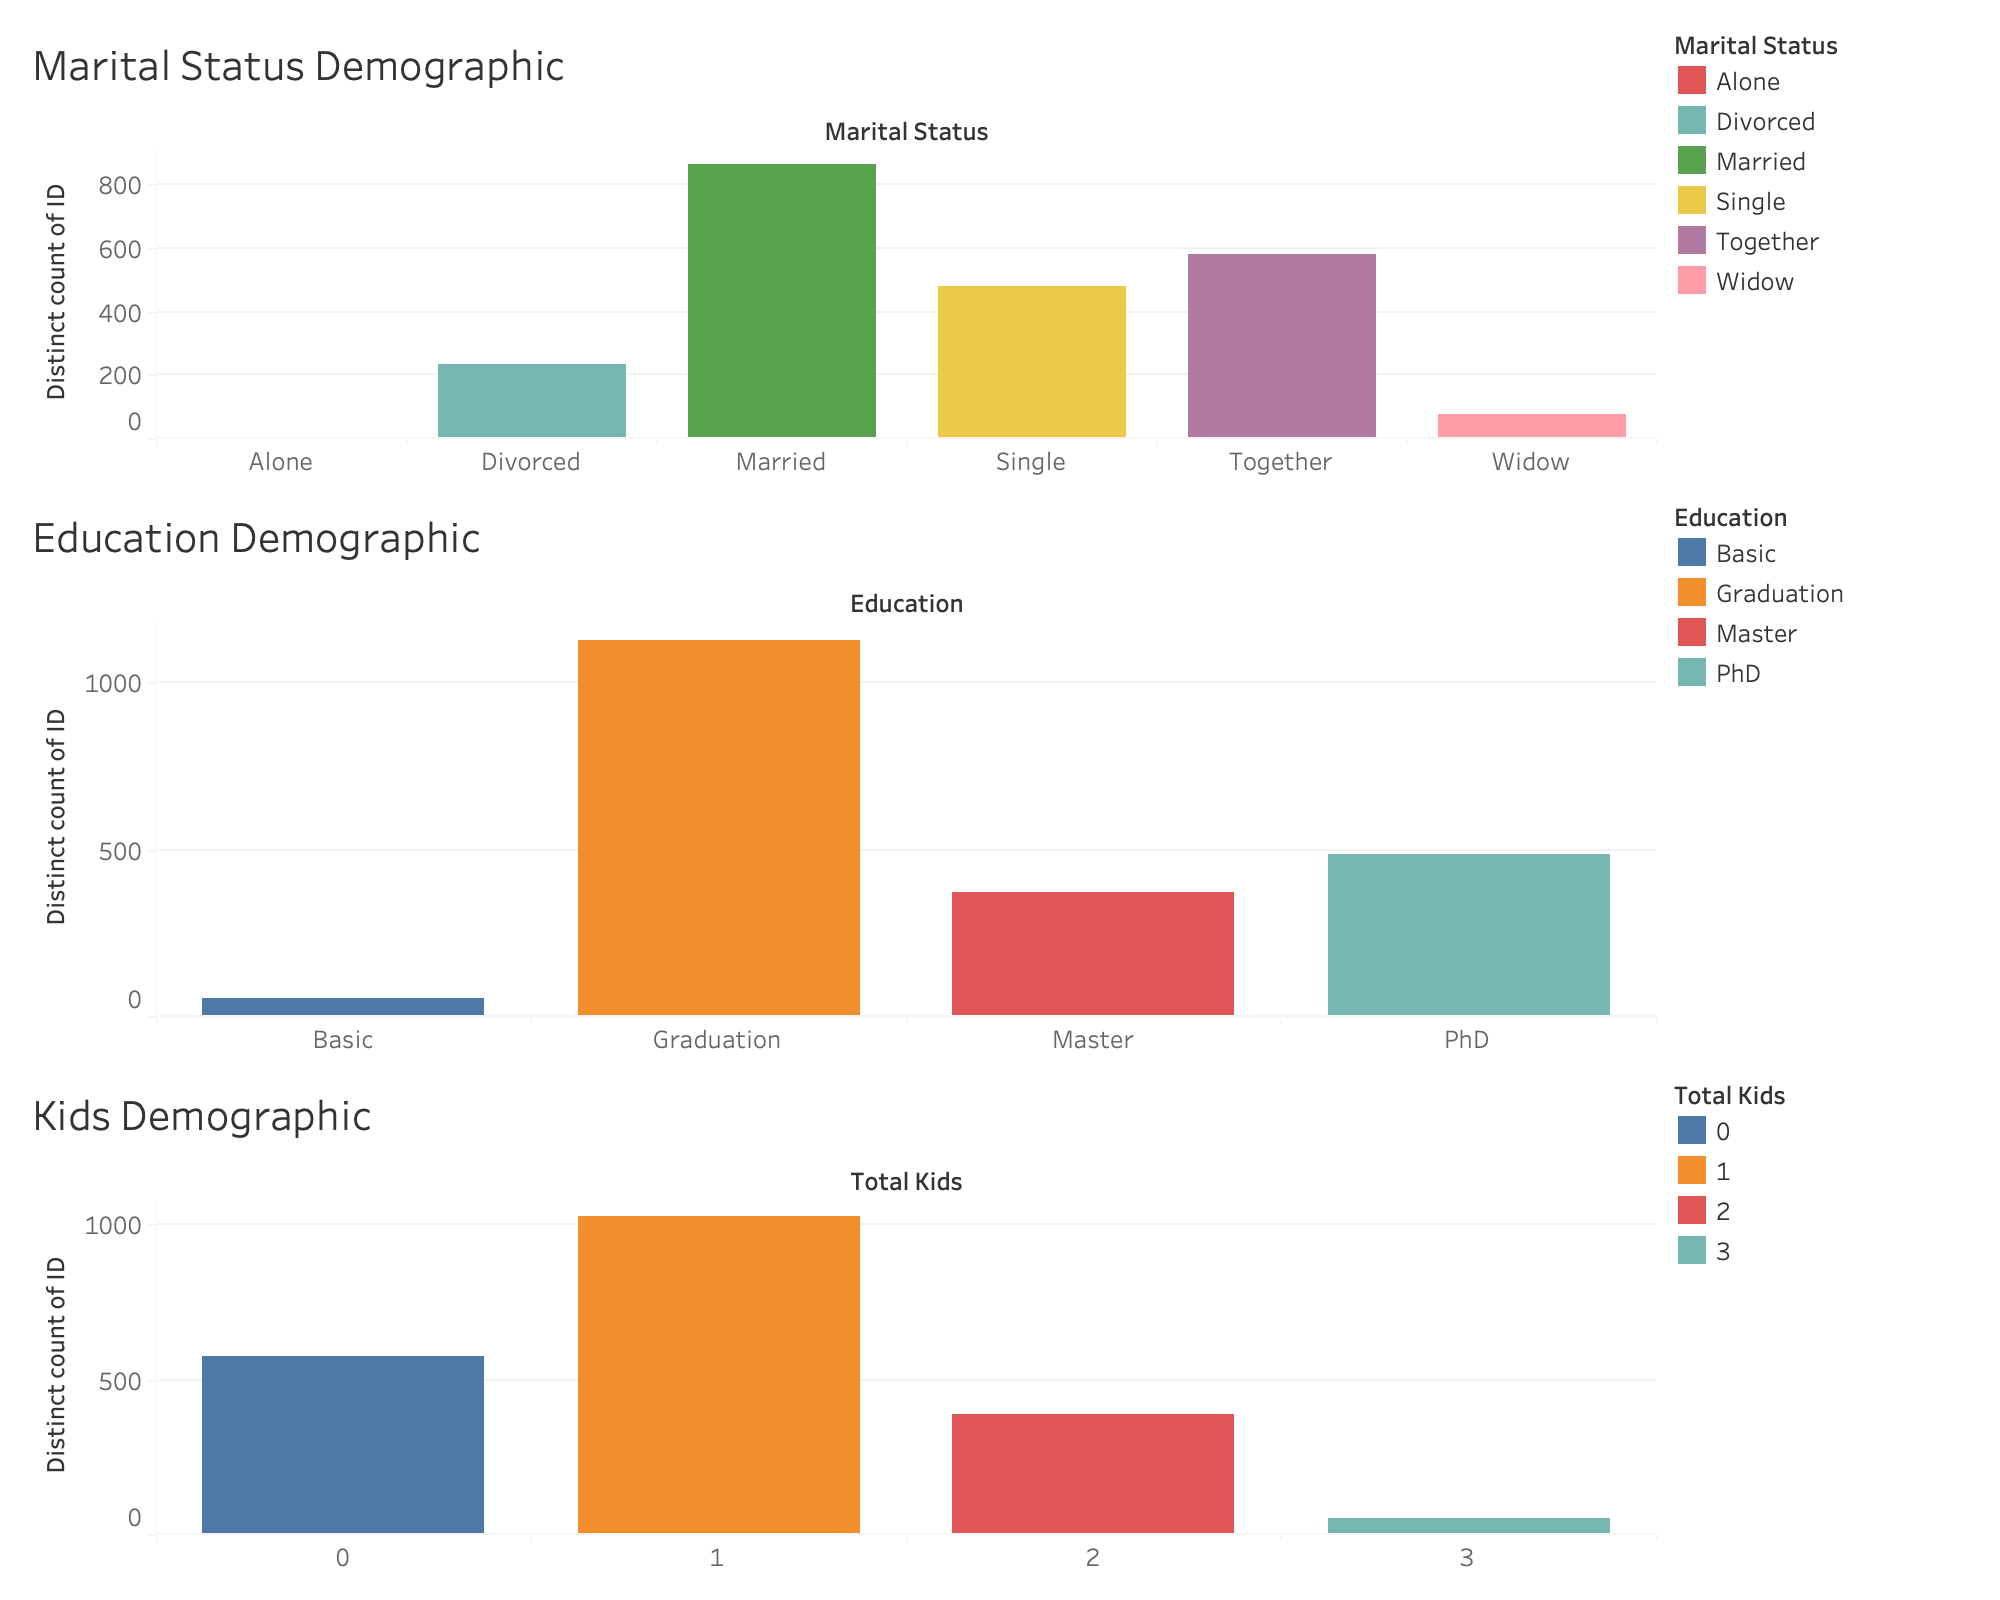

The page's visual inventory and layout, read from the dashboard file:
{"tool":"tableau","page":{"name":"Demographic Distribution","canvas":[1000,800],"ordinal":0},"visuals":[{"type":"worksheet","title":"EDA 1 - Marital Status","mark":"Automatic","rows":["ID"],"cols":["Marital_Status"],"box":[8,8,824,236]},{"type":"legend","title":"EDA 1 - Marital Status","param":"[federated.0h42g6r1er60x316i2s0j0oj86pa].[none:Marital_Status:nk]","box":[832,8,160,146]},{"type":"worksheet","title":"EDA 2 - Education","mark":"Automatic","rows":["ID"],"cols":["Education"],"box":[8,244,824,289]},{"type":"legend","title":"EDA 2 - Education","param":"[federated.0h42g6r1er60x316i2s0j0oj86pa].[none:Education:nk]","box":[832,244,160,106]},{"type":"worksheet","title":"EDA 7 - Kids","mark":"Automatic","rows":["ID"],"cols":["Calculation_730568331829141505"],"box":[8,533,824,259]},{"type":"legend","title":"EDA 7 - Kids","param":"[federated.0h42g6r1er60x316i2s0j0oj86pa].[attr:Calculation_730568331829141505:nk","box":[832,533,160,106]}]}

Visuals, with their boxes in screenshot pixels (x1, y1, x2, y2), scaled from the page's 1000x800 canvas onto the 2000x1600 screenshot:
"EDA 1 - Marital Status" worksheet: detection(16, 16, 1664, 488)
"EDA 1 - Marital Status" legend: detection(1664, 16, 1984, 308)
"EDA 2 - Education" worksheet: detection(16, 488, 1664, 1066)
"EDA 2 - Education" legend: detection(1664, 488, 1984, 700)
"EDA 7 - Kids" worksheet: detection(16, 1066, 1664, 1584)
"EDA 7 - Kids" legend: detection(1664, 1066, 1984, 1278)
